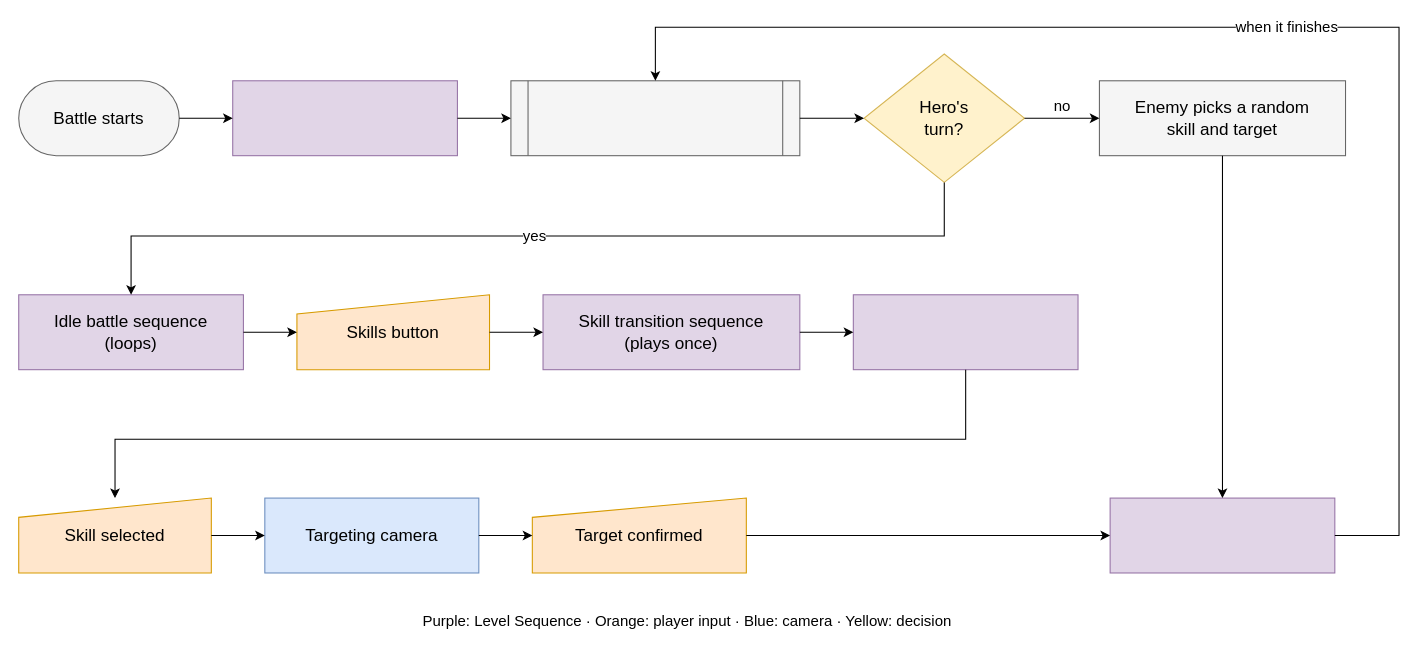
Image size: 1426x656. Some labels were removed from this diagram. Each missing label, with the centre of its shape:
Attack sequence (plays once): point 1222,535
Combat start sequence (plays once): point 344,118
Idle skill sequence (loops): point 965,332
Next character's turn turn order: Mateusz Szwarc: point 655,118
